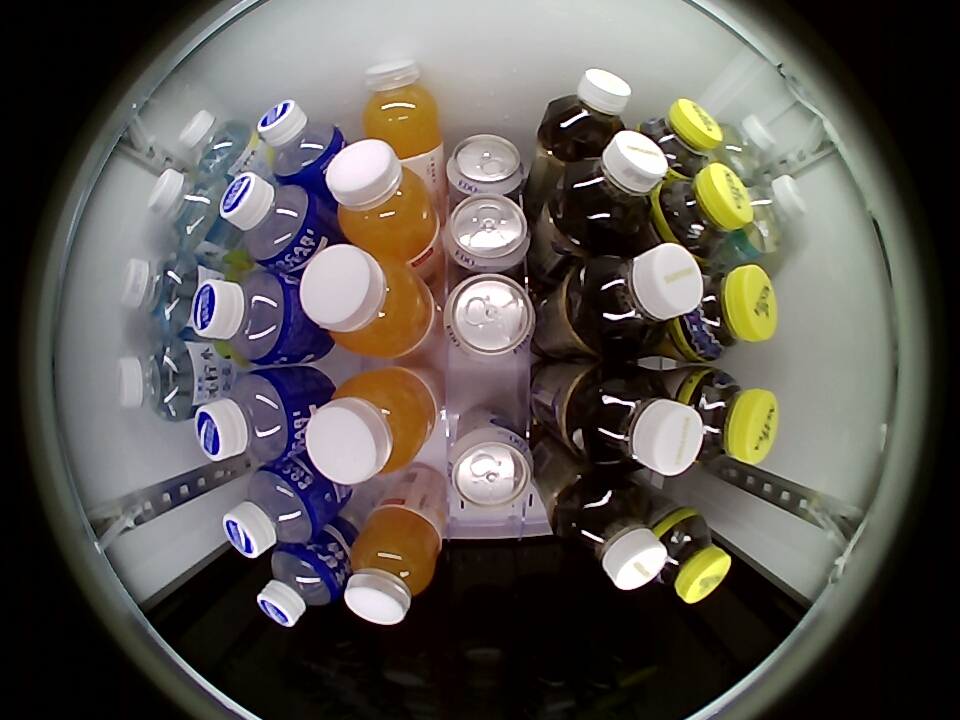baokuangli: (191, 270, 303, 365), (194, 369, 305, 464), (218, 172, 322, 270), (222, 461, 325, 559), (257, 99, 344, 187), (257, 542, 344, 628)
chacui: (672, 264, 777, 363), (679, 367, 778, 465), (654, 165, 754, 257), (647, 509, 731, 603), (639, 99, 720, 180)
qinningshui: (147, 169, 230, 252), (116, 339, 200, 421), (120, 253, 201, 337), (733, 173, 807, 255), (178, 111, 257, 179), (711, 114, 777, 180)
rusuanjunqishui: (445, 273, 536, 360), (448, 423, 533, 508), (445, 194, 531, 271), (446, 133, 527, 197)
weic: (300, 244, 435, 359), (306, 367, 437, 485), (325, 139, 440, 262), (344, 507, 443, 626), (360, 59, 442, 161)
wulongcha: (584, 368, 702, 476), (583, 243, 702, 350), (559, 130, 667, 239), (562, 480, 665, 590), (544, 68, 632, 153)
